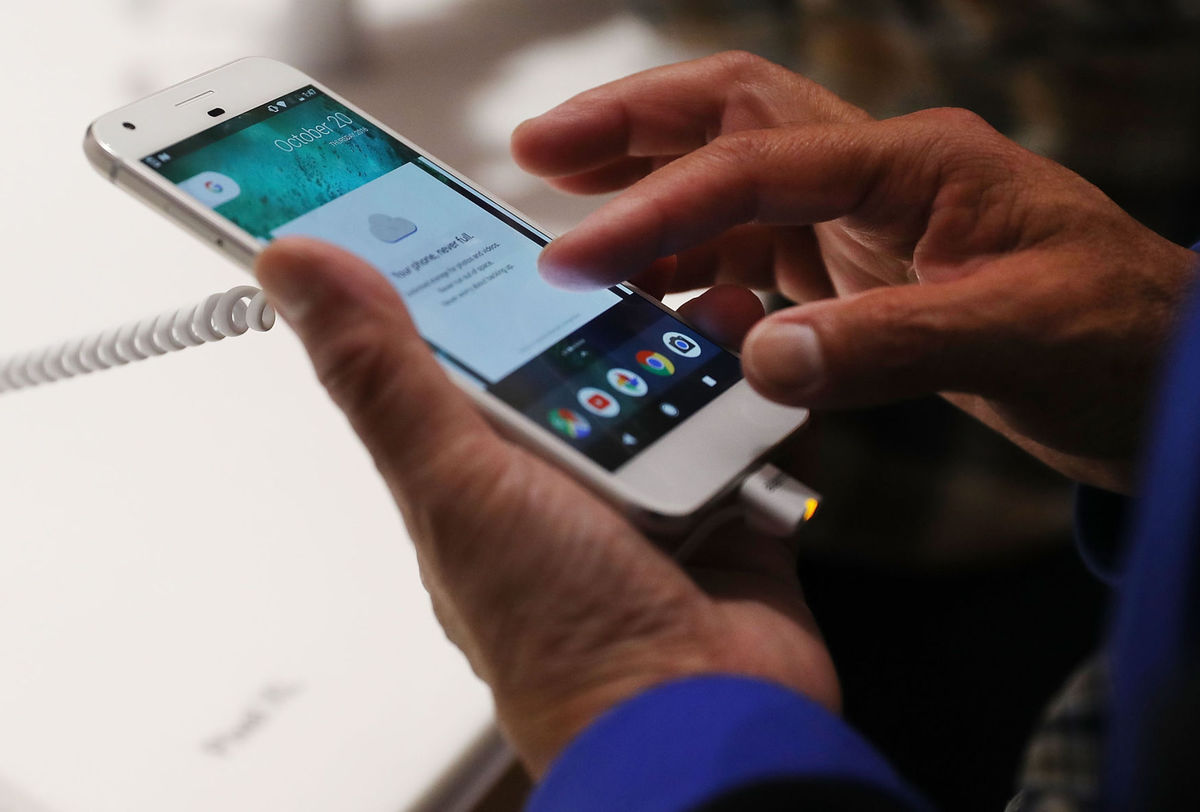smartphone: (83, 53, 815, 533)
